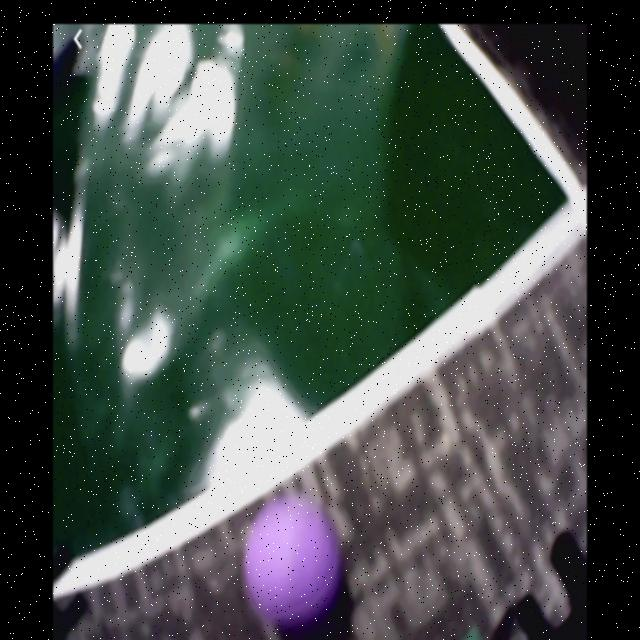ball: (245, 494, 339, 626)
